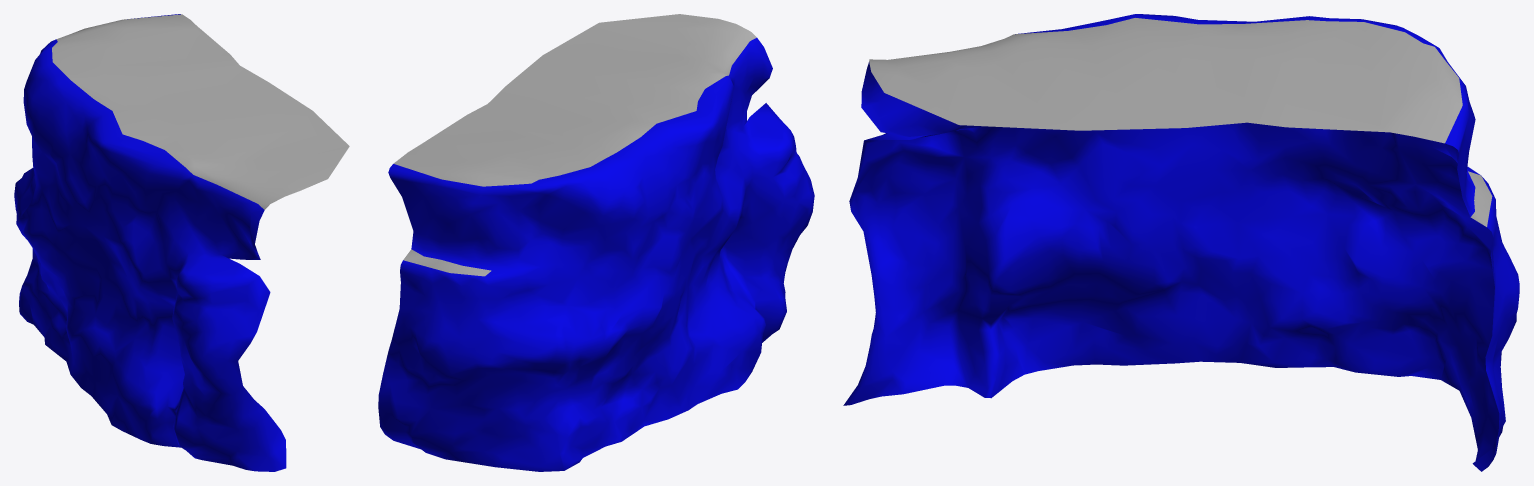
Rendered from Cliff_3_Beach_Low.fbx.
The picture shows the model from 3 angles, left to right: view 1: azimuth 30°, elevation 25°; view 2: azimuth 150°, elevation 25°; view 3: azimuth 270°, elevation 25°; orthographic projection. The views are drawn at different scales.
Parts seen in each view (by area): view 1: Cliff_3_Beach_Low; view 2: Cliff_3_Beach_Low; view 3: Cliff_3_Beach_Low.
Part boxes in pixels (box(x1,y1,x2,y2)): Cliff_3_Beach_Low: box(14, 14, 349, 471); Cliff_3_Beach_Low: box(378, 14, 814, 471); Cliff_3_Beach_Low: box(843, 14, 1519, 471).
Bounding box in the file's own units: 1311 × 1723 × 2817.
